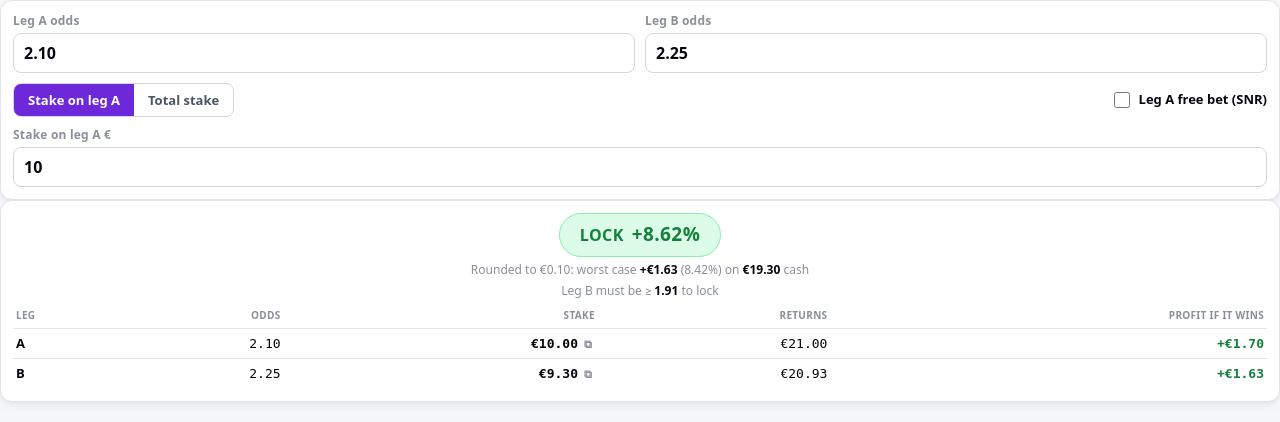
Scenario: DecimalCalc › a free-bet leg A is marked and excluded from the cash
This screenshot has width=1280, height=422.
Click the checkbox labelled "Leg A free bet (SNR)". click: {"x": 1122, "y": 100}
box: [1114,92,1130,108]
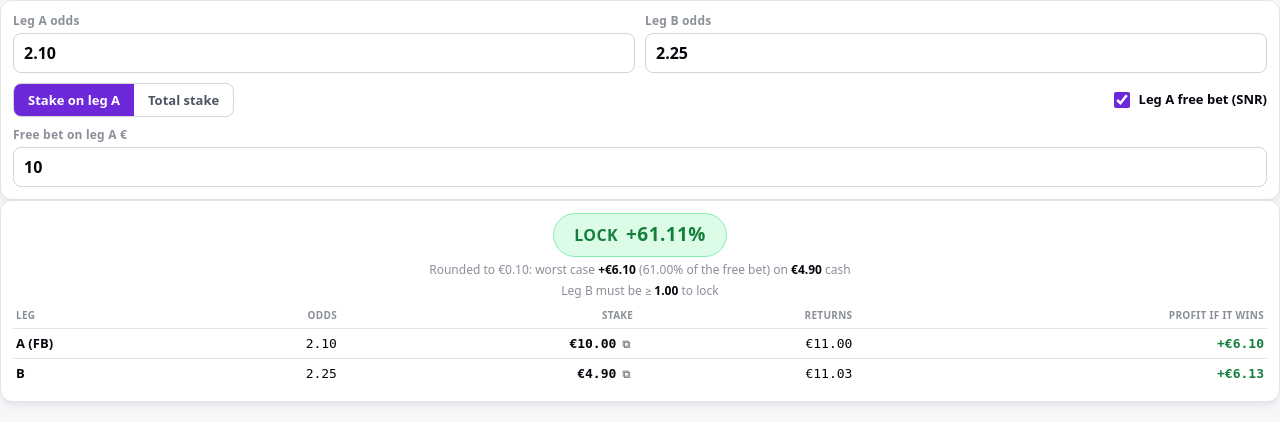
Now the element with test id "decimal-result" shows "A (FB)", box [0,200,1279,402]
Now the element with test id "decimal-result" shows "of the free bet", box [683,261,767,278]
